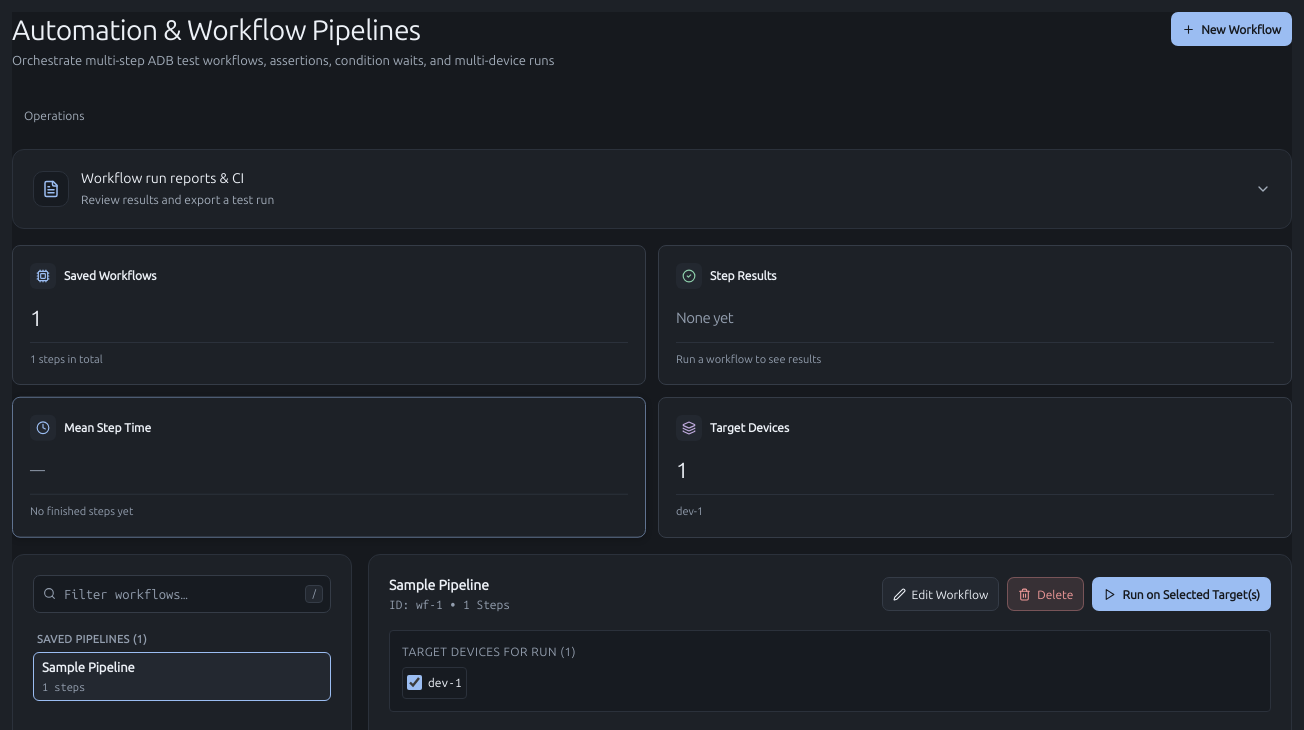
AutomationPage Step Parameter Accordion › re-seeds default parameters when changing operation to packages.install
Click the button "New Workflow": (1232, 29) [1171,12,1292,46]
(page scrolled)
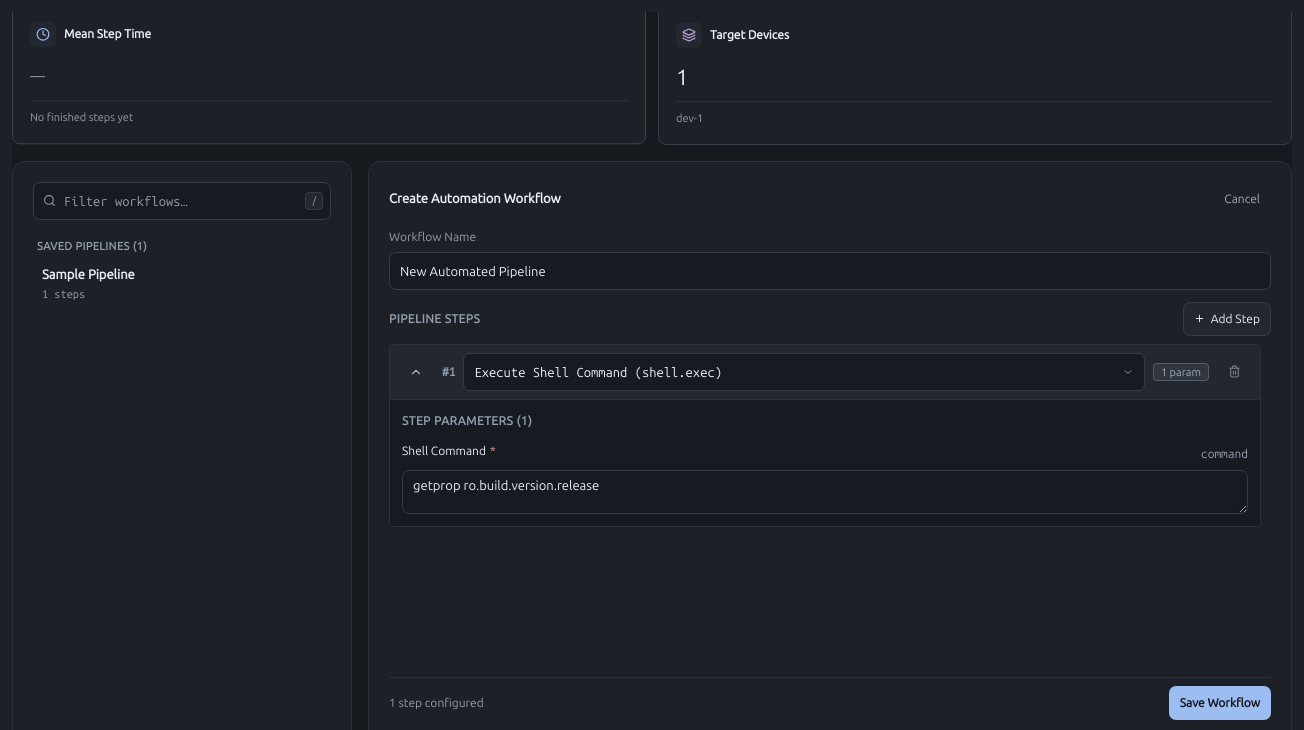
Select "Install Package (packages.install)" in the dropdown showing "Execute Shell Command (shell.exec)": (804, 372) [464,353,1145,391]
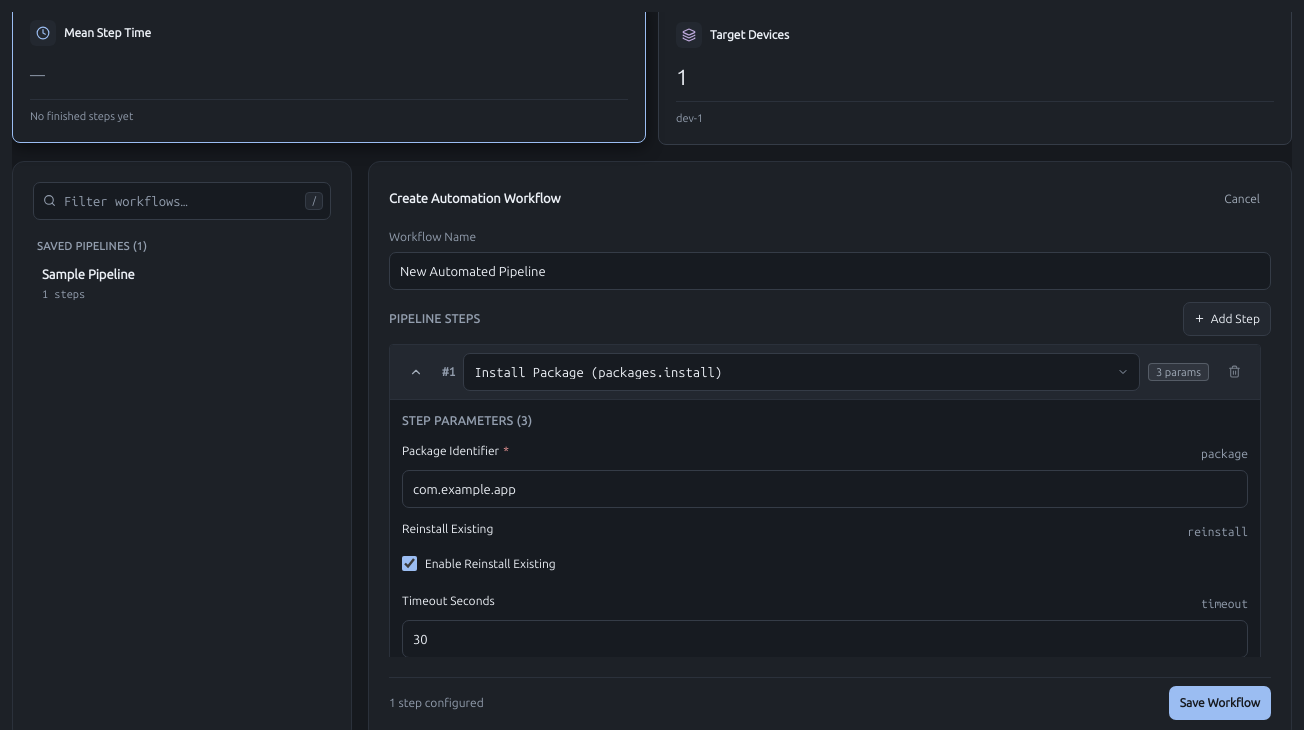
Expected: the text "Step Parameters (3)" is shown, [402,414,532,427]
Expected: the field with placeholder "Package Identifier" holds "com.example.app", [402,470,1248,508]
Expected: the number field with placeholder "Timeout Seconds" holds "30", [402,620,1248,657]
